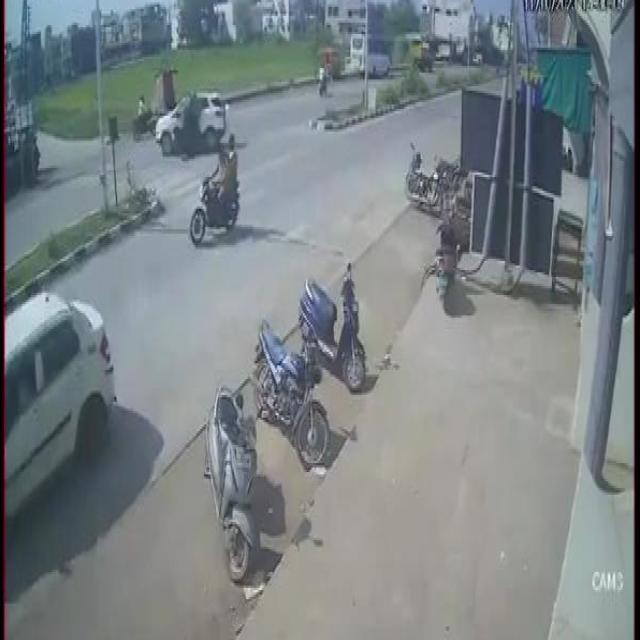accident: (153, 73, 237, 163)
